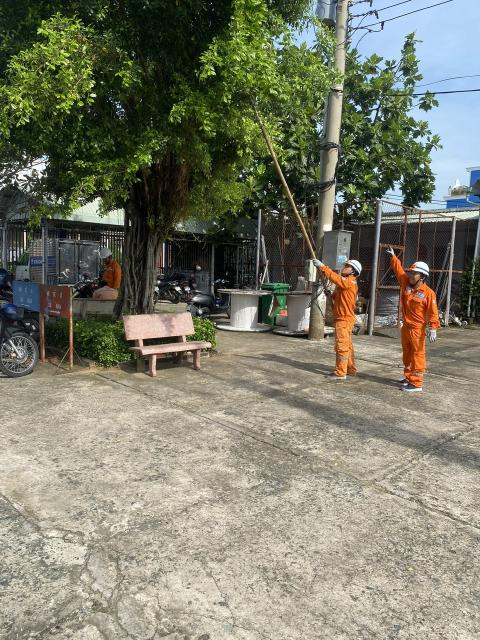gloves: (382, 243, 397, 257), (311, 255, 324, 271), (426, 329, 438, 344), (323, 286, 332, 299)
helmet: (340, 251, 376, 279), (405, 250, 433, 280)
shoes: (323, 369, 350, 382), (398, 383, 424, 393), (392, 377, 414, 386)
